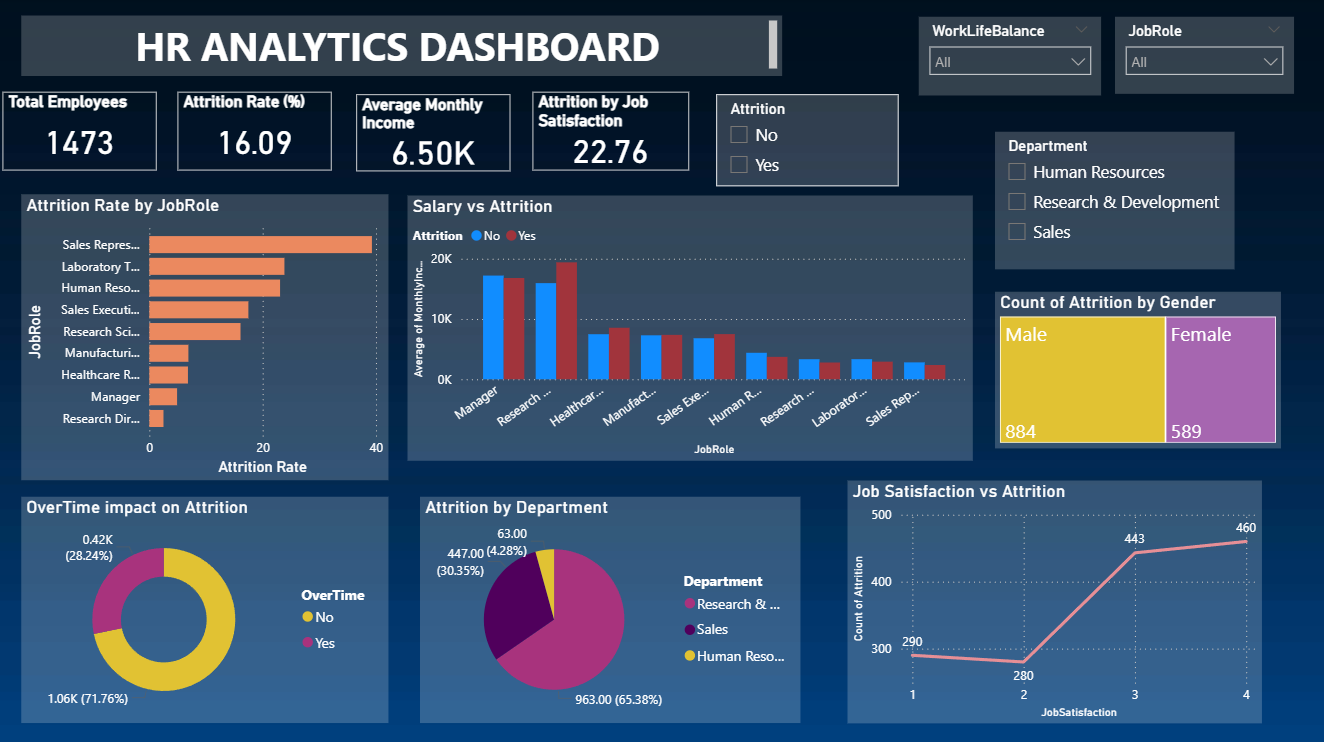

The dashboard page shown, as its layout file describes it:
{"tool":"powerbi","page":{"name":"Page 1","canvas":[1280,720],"ordinal":0},"visuals":[{"type":"card","title":"Total Employees","fields":{"Values":["CountNonNull(HR_Analytics (1).EmpID)"]},"box":[1.8,90.9,149.1,76.4],"z":0},{"type":"card","title":"Attrition by Job Satisfaction","fields":{"Values":["HR_Analytics (1).Attrition by Job Satisfaction"]},"box":[514.5,90.9,150.9,76.4],"z":1000},{"type":"card","title":"Average Monthly Income","fields":{"Values":["HR_Analytics (1).Avg Monthly Income"]},"box":[343.6,92.7,149.1,74.5],"z":2000},{"type":"card","title":"Attrition Rate (%)","fields":{"Values":["HR_Analytics (1).Attrition Rate"]},"box":[170.9,90.9,149.1,76.4],"z":3000},{"type":"clusteredBarChart","fields":{"Y":["HR_Analytics (1).Attrition Rate"],"Category":["HR_Analytics (1).JobRole"]},"box":[20,189.1,354.5,276.4],"z":4000},{"type":"pieChart","title":"Attrition by Department","fields":{"Category":["HR_Analytics (1).Department"],"Y":["CountNonNull(HR_Analytics (1).Attrition)"]},"box":[405.5,481.8,367.3,218.2],"z":5000},{"type":"clusteredColumnChart","title":"Salary vs Attrition","fields":{"Category":["HR_Analytics (1).JobRole"],"Series":["HR_Analytics (1).Attrition"],"Y":["Avg(HR_Analytics (1).MonthlyIncome)"]},"box":[392.7,190.9,545.5,256.4],"z":6000},{"type":"lineChart","title":"Job Satisfaction vs Attrition","fields":{"Category":["HR_Analytics (1).JobSatisfaction"],"Y":["CountNonNull(HR_Analytics (1).Attrition)"]},"box":[818.2,465.5,400,234.5],"z":7000},{"type":"slicer","fields":{"Values":["HR_Analytics (1).JobRole"]},"box":[1076.4,18.2,172.7,74.5],"z":8000},{"type":"slicer","fields":{"Values":["HR_Analytics (1).WorkLifeBalance"]},"box":[887.3,18.2,176.4,76.4],"z":10000},{"type":"donutChart","title":" OverTime impact on Attrition","fields":{"Category":["HR_Analytics (1).OverTime"],"Y":["CountNonNull(HR_Analytics (1).Attrition)"]},"box":[20,481.8,354.5,218.2],"z":11000},{"type":"slicer","fields":{"Values":["HR_Analytics (1).Attrition"]},"box":[690.9,92.7,176.4,89.1],"z":12000},{"type":"treemap","fields":{"Group":["HR_Analytics (1).Gender"],"Values":["CountNonNull(HR_Analytics (1).Attrition)"]},"box":[960,283.6,276.4,150.9],"z":12001},{"type":"slicer","fields":{"Values":["HR_Analytics (1).Department"]},"box":[960,129.1,230.9,132.7],"z":12002},{"type":"textbox","box":[20,16.4,734.5,58.2],"z":12003}]}

Visuals, with their boxes in screenshot pixels (x1, y1, x2, y2), scaled from the page's 1280x720 canvas onto the 1324x742 screenshot:
"Total Employees" card: bbox(2, 94, 156, 172)
"Attrition by Job Satisfaction" card: bbox(532, 94, 688, 172)
"Average Monthly Income" card: bbox(355, 96, 510, 172)
"Attrition Rate (%)" card: bbox(177, 94, 331, 172)
clusteredBarChart - HR_Analytics (1).Attrition Rate x HR_Analytics (1).JobRole: bbox(21, 195, 387, 480)
"Attrition by Department" pieChart: bbox(419, 497, 799, 721)
"Salary vs Attrition" clusteredColumnChart: bbox(406, 197, 970, 461)
"Job Satisfaction vs Attrition" lineChart: bbox(846, 480, 1260, 721)
slicer - HR_Analytics (1).JobRole: bbox(1113, 19, 1292, 96)
slicer - HR_Analytics (1).WorkLifeBalance: bbox(918, 19, 1100, 97)
" OverTime impact on Attrition" donutChart: bbox(21, 497, 387, 721)
slicer - HR_Analytics (1).Attrition: bbox(715, 96, 897, 187)
treemap - HR_Analytics (1).Gender x CountNonNull(HR_Analytics (1).Attrition): bbox(993, 292, 1279, 448)
slicer - HR_Analytics (1).Department: bbox(993, 133, 1232, 270)
textbox: bbox(21, 17, 780, 77)
